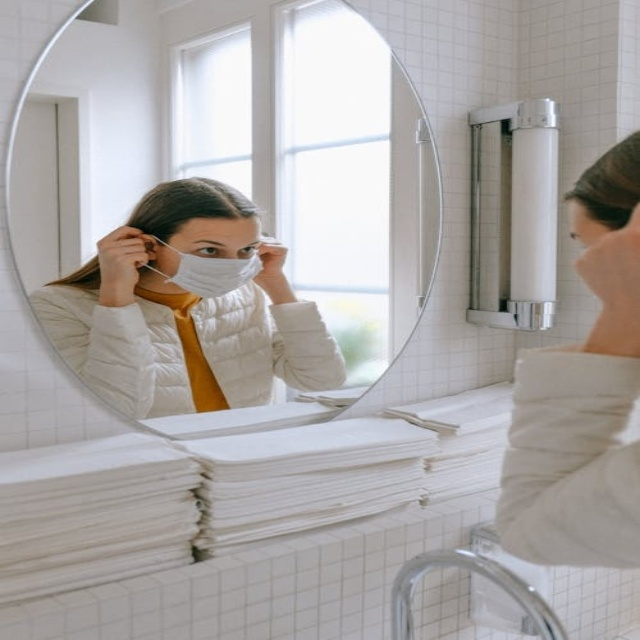Mascara: (149, 235, 264, 299)
Sin_gafas: (175, 234, 259, 258)
Sin_guantes: (84, 221, 157, 291), (252, 231, 293, 294)
